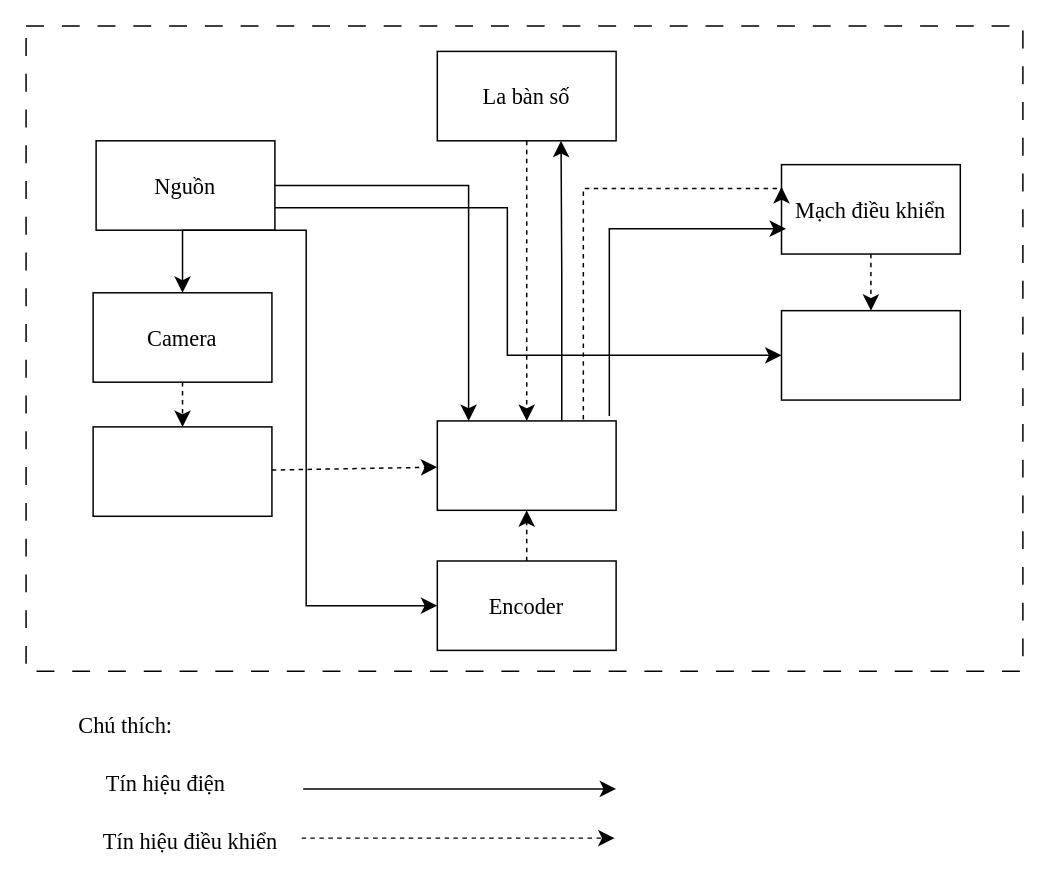
Some shapes in this 1049 by 890 pixel diagram are drawn without their labels. Each missing label, with the box of its shape:
Máy tính: (92, 425, 272, 516)
Vi điều khiển: (436, 419, 616, 510)
Động cơ: (780, 309, 960, 400)
